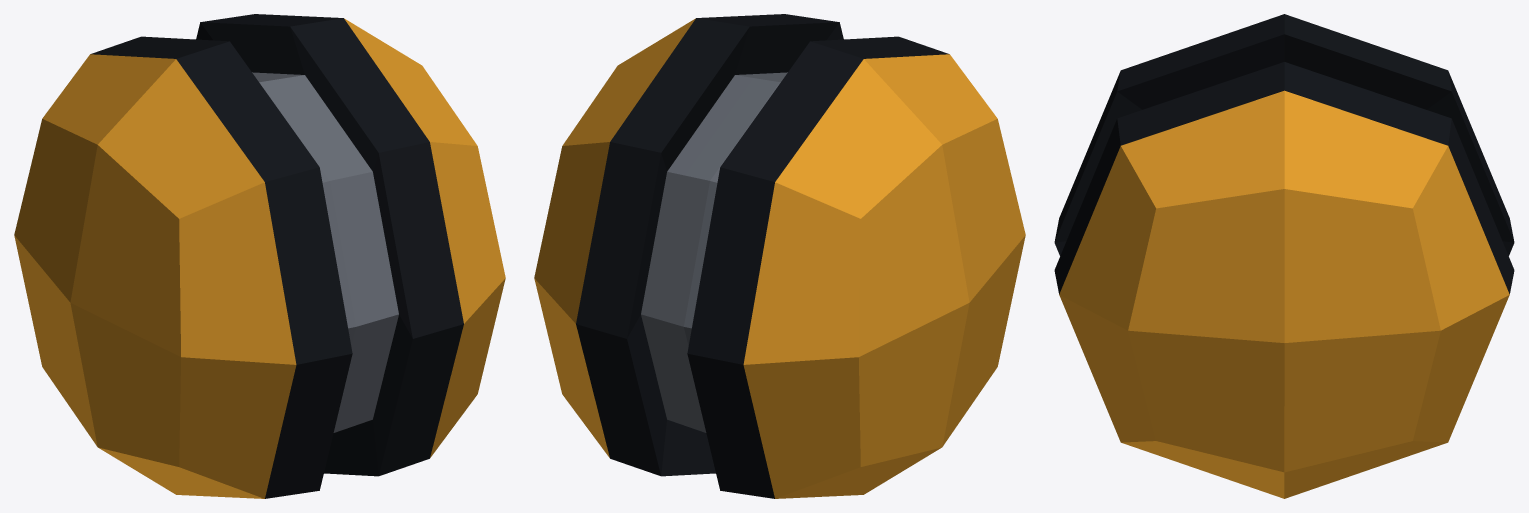
File: Balas.fbx
The picture shows the model from 3 angles, left to right: view 1: azimuth 30°, elevation 25°; view 2: azimuth 150°, elevation 25°; view 3: azimuth 270°, elevation 25°; orthographic projection. The views are drawn at different scales.
Parts seen in each view (by area): view 1: bala; view 2: bala; view 3: bala.
Boxes of the visible parts, <box> form: bala: <box>14,14,505,498</box>; bala: <box>534,14,1025,498</box>; bala: <box>1054,14,1514,498</box>.
Size of the model in its own units: 209 by 234 by 234.
